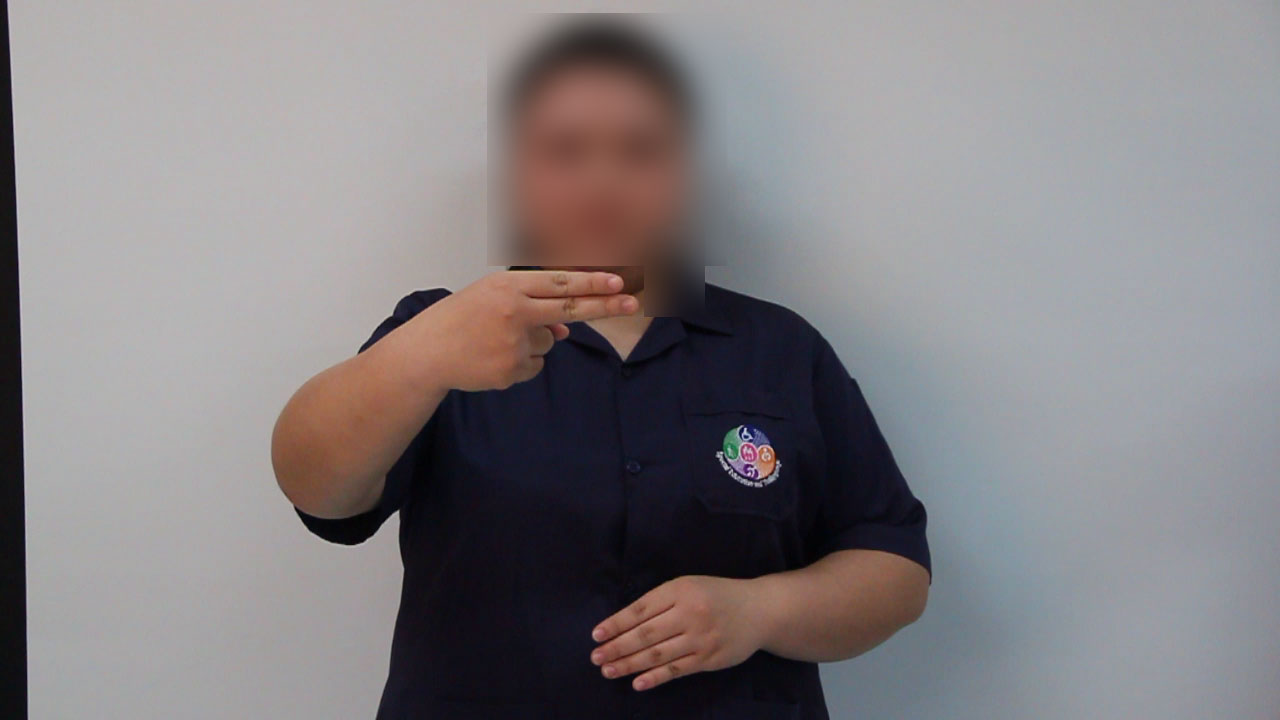hor: (397, 258, 645, 399)
